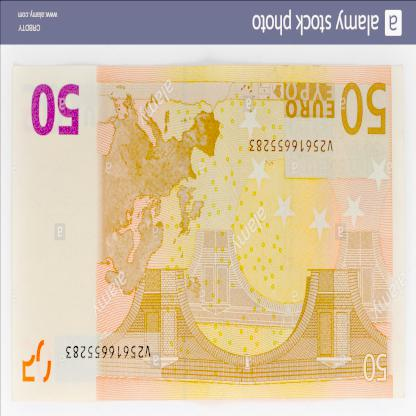euro_banknote: (13, 66, 406, 402)
